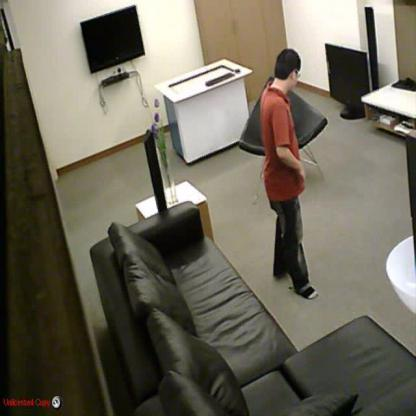Person: (260, 48, 319, 298)
